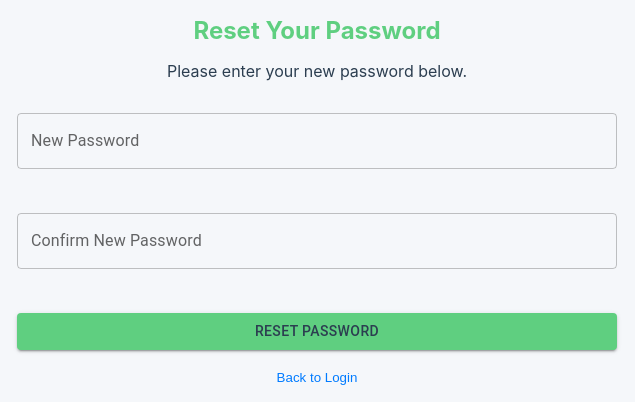
Scenario: Admin Password Reset - Reset Password Page › should reset password successfully
expect the heading "Reset Your Password" is shown: met, box [193, 16, 441, 45]
Type "newpassword123" into the password field labelled "New Password" at {"x": 317, "y": 141}, box [17, 113, 617, 169]
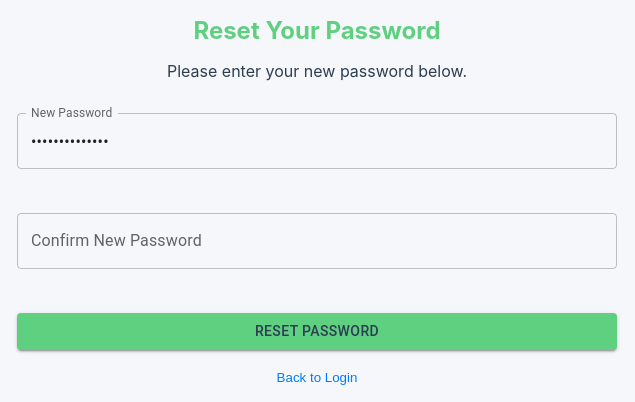
Type "newpassword123" into the password field labelled "Confirm New Password" at {"x": 317, "y": 241}, box [17, 213, 617, 269]
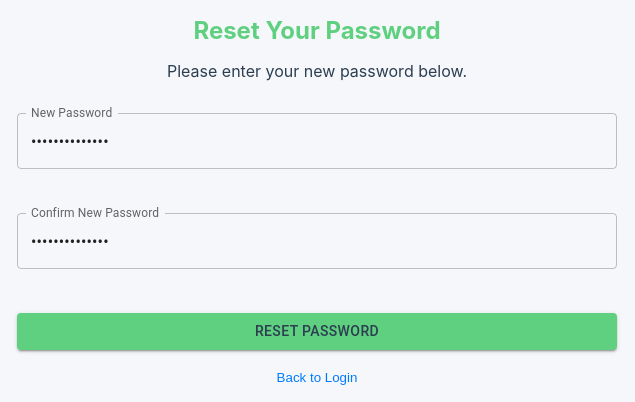
Click the button "Reset Password" at {"x": 317, "y": 331}, box [17, 313, 617, 350]
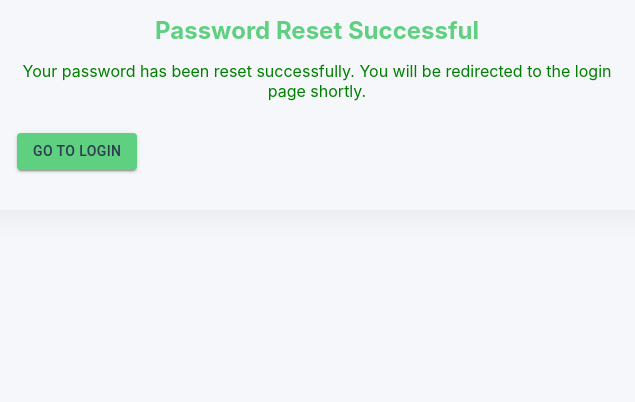
expect the heading "Password Reset Successful" is shown: met, box [155, 16, 479, 45]
expect the text "Your password has been reset successfully. You will be redirected to the login page shortly." is shown: met, box [22, 61, 611, 101]
